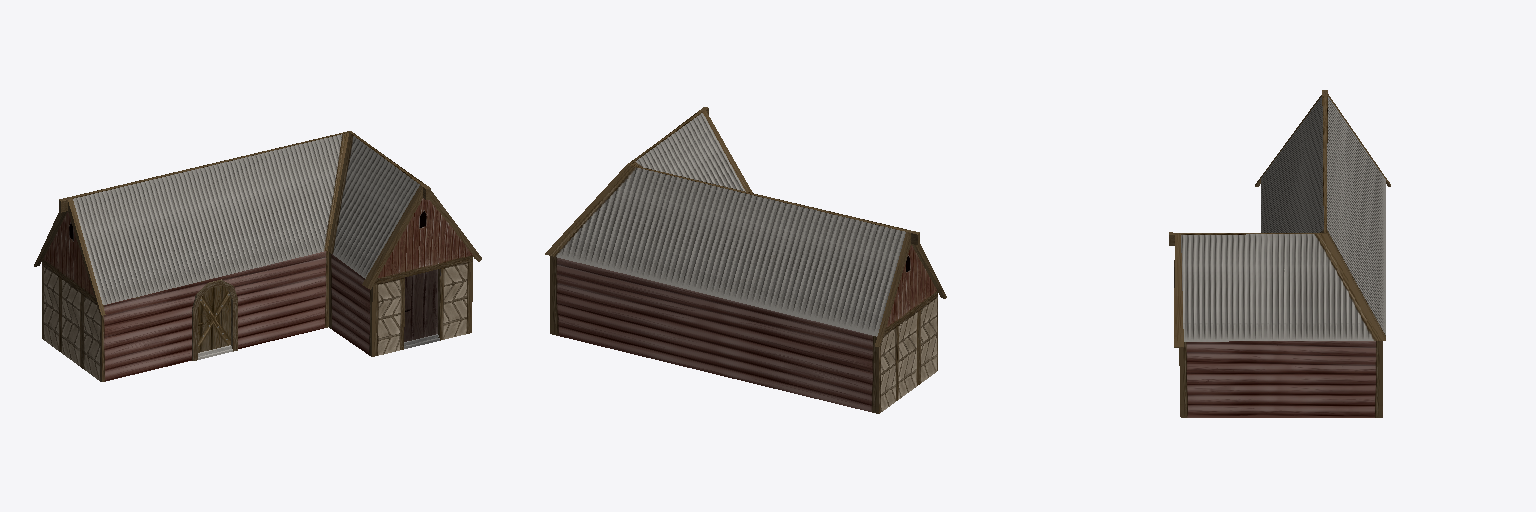
The picture shows the model from 3 angles: view 1: azimuth 30°, elevation 25°; view 2: azimuth 150°, elevation 25°; view 3: azimuth 270°, elevation 25°; orthographic projection.
Bounding box in the file's own units: 16.79 × 7.5 × 9.33.
1 materials, 1 textured.